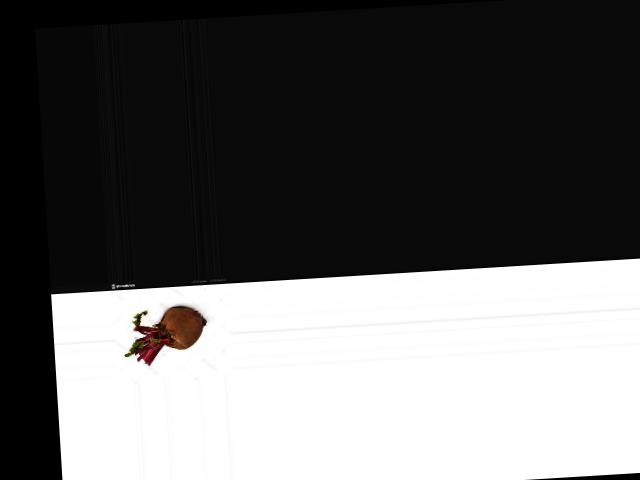beet: (122, 304, 209, 366)
